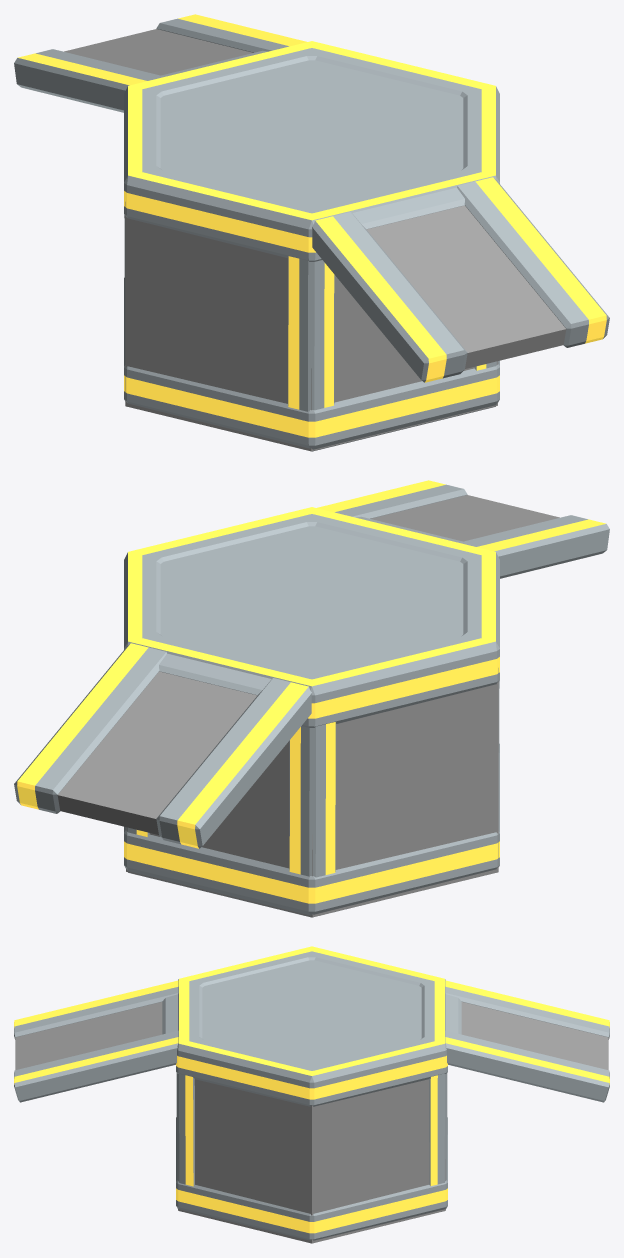
File: SM_CenterBlock_v2.1.fbx
3 renders of one model, top to bottom at view 1: azimuth 30°, elevation 25°; view 2: azimuth 150°, elevation 25°; view 3: azimuth 270°, elevation 25°, orthographic. The views are drawn at different scales.
Parts seen in each view (by area): view 1: SM_CenterBlockTop, SM_CenterBlock_Ramps_v2, Center_hologram, SM_HexagonBottom_v1, Center_Suppoprts; view 2: SM_CenterBlockTop, SM_CenterBlock_Ramps_v2, Center_hologram, SM_HexagonBottom_v1, Center_Suppoprts; view 3: SM_CenterBlockTop, SM_CenterBlock_Ramps_v2, Center_hologram, SM_HexagonBottom_v1, Center_Suppoprts.
Part boxes in pixels (<box>): SM_CenterBlockTop: <box>124,41,499,261</box>; SM_CenterBlock_Ramps_v2: <box>14,14,609,382</box>; Center_hologram: <box>125,202,497,451</box>; SM_HexagonBottom_v1: <box>124,277,499,451</box>; Center_Suppoprts: <box>124,215,499,411</box>; SM_CenterBlockTop: <box>124,507,499,727</box>; SM_CenterBlock_Ramps_v2: <box>14,480,609,848</box>; Center_hologram: <box>126,668,498,917</box>; SM_HexagonBottom_v1: <box>124,743,499,917</box>; Center_Suppoprts: <box>124,681,499,877</box>; SM_CenterBlockTop: <box>176,946,447,1106</box>; SM_CenterBlock_Ramps_v2: <box>14,980,609,1102</box>; Center_hologram: <box>178,1079,445,1243</box>; SM_HexagonBottom_v1: <box>176,1117,447,1240</box>; Center_Suppoprts: <box>176,1073,447,1186</box>.
Size of what is drawn, in the model's own units: 2.1 by 1.24 by 4.01.
